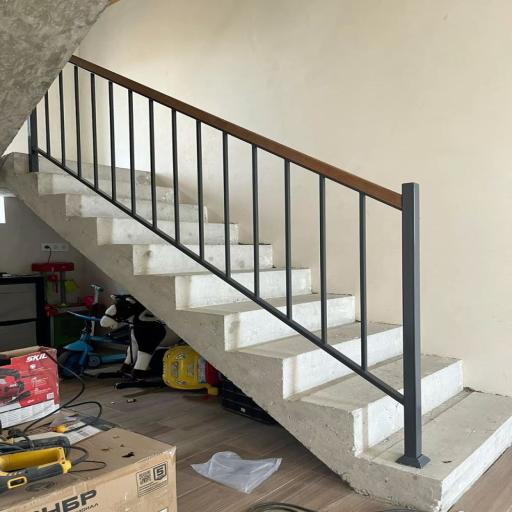sofa: (0, 154, 511, 510)
